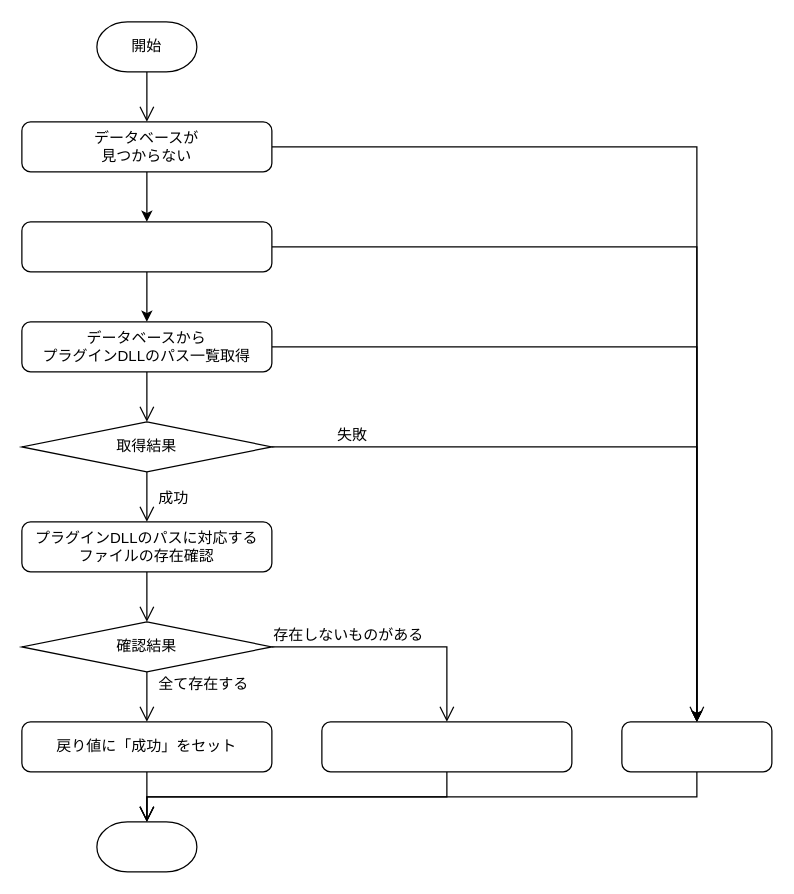
Image size: 794x894. Some labels were removed from this diagram. The shapes that lost their labels are listed below. From the top down, each one's box as (x1, y1, x2, y2) in pixels, then its label:
(21, 221, 272, 272): データベースに テーブルが見つからない
(321, 721, 572, 772): 戻り値に「失敗」をセット
(621, 721, 772, 772): 例外スロー
(96, 821, 197, 872): 終了
